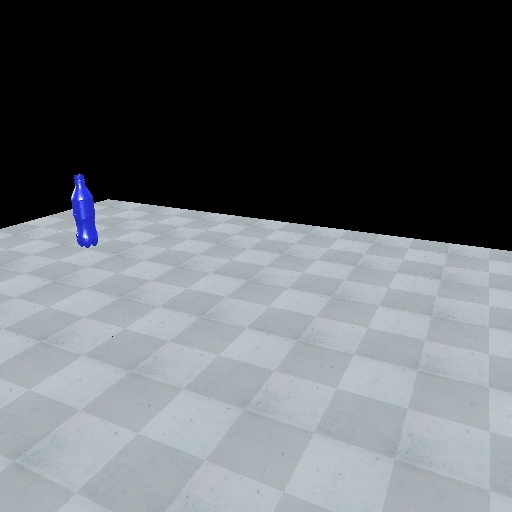bottle: (68, 171, 100, 249)
